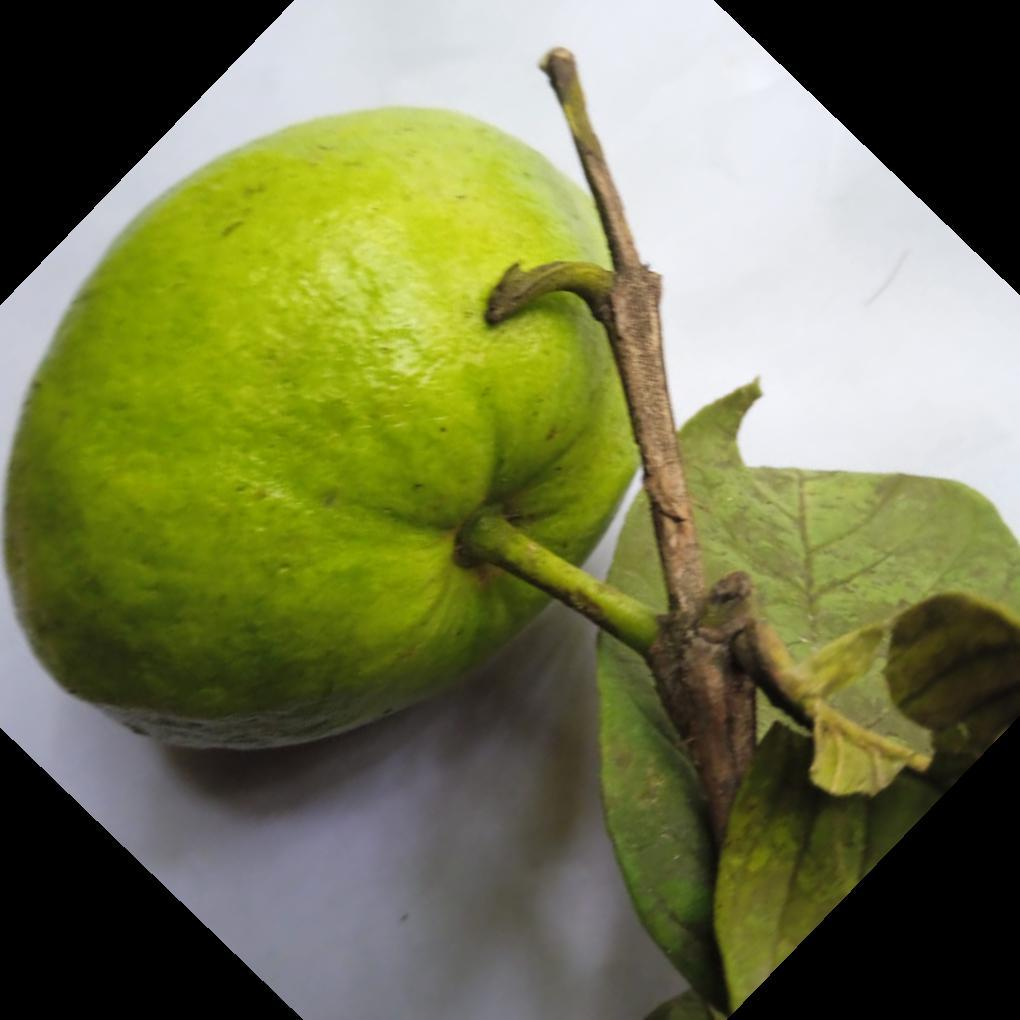FreshGuava: (0, 106, 664, 755)
